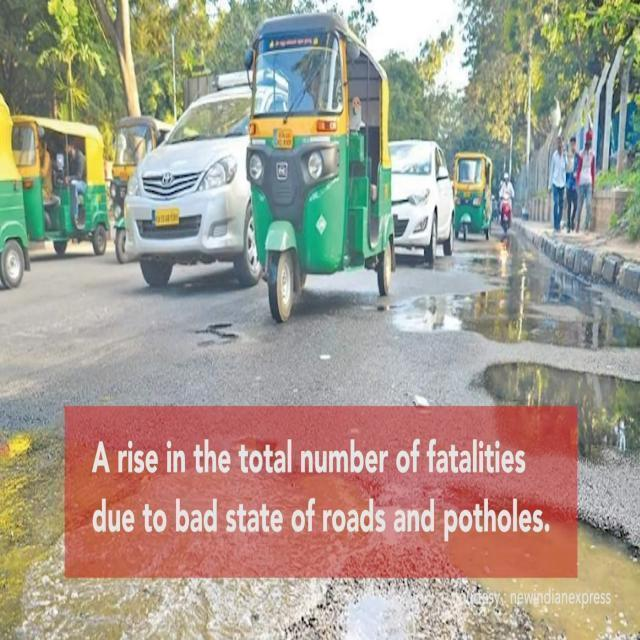pothole: (21, 540, 332, 640), (478, 524, 640, 640)
